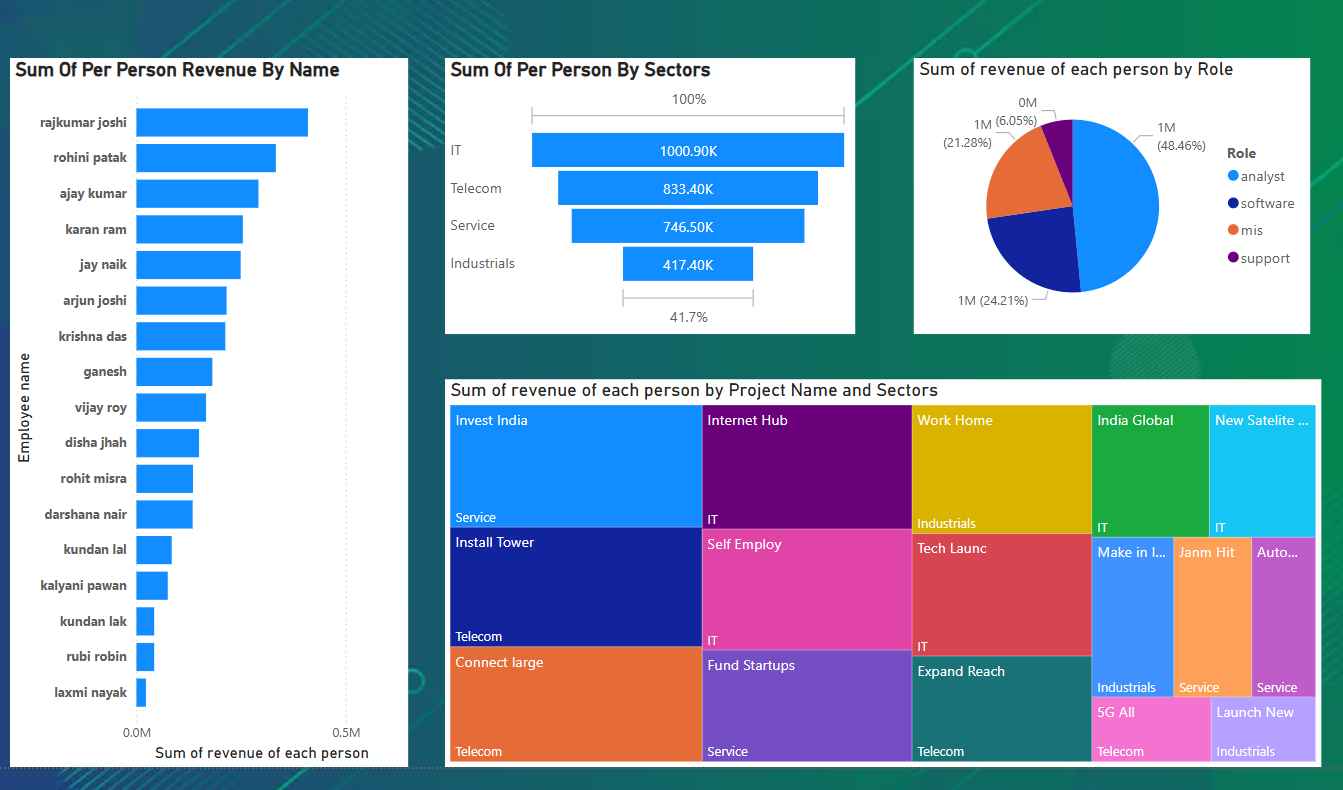

This screenshot's page, from the dashboard's own definition file:
{"tool":"powerbi","page":{"name":"Page 1","canvas":[1280,720],"ordinal":0},"visuals":[{"type":"clusteredBarChart","title":"Sum Of Per Person Revenue By Name","fields":{"Y":["Sum(Performance Details.revenue of each person)"],"Category":["Performance Details.Employee name"]},"box":[13.7,60.4,370.5,660],"z":0},{"type":"funnel","title":"Sum Of Per Person By Sectors","fields":{"Y":["Sum(Performance Details.revenue of each person)"],"Category":["Performance Details.Sectors"]},"box":[418.5,60.4,381.5,256.6],"z":1000},{"type":"pieChart","fields":{"Y":["Sum(Performance Details.revenue of each person)"],"Category":["Performance Details.Role"]},"box":[854.9,60.4,369.1,256.6],"z":2000},{"type":"treemap","fields":{"Group":["Performance Details.Project Name"],"Values":["Sum(Performance Details.revenue of each person)"],"Details":["Performance Details.Sectors"]},"box":[418.5,359.5,815.1,360.9],"z":3000}]}

Visuals, with their boxes in screenshot pixels (x1, y1, x2, y2):
"Sum Of Per Person Revenue By Name" clusteredBarChart: select_region(8, 54, 405, 762)
"Sum Of Per Person By Sectors" funnel: select_region(442, 54, 851, 330)
pieChart - Sum(Performance Details.revenue of each person) x Performance Details.Role: select_region(910, 54, 1306, 330)
treemap - Performance Details.Project Name x Sum(Performance Details.revenue of each person): select_region(442, 375, 1316, 762)
